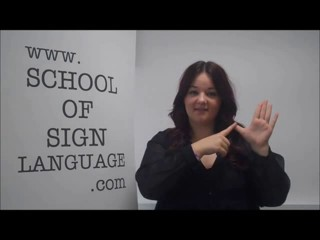A: (206, 98, 287, 161)
